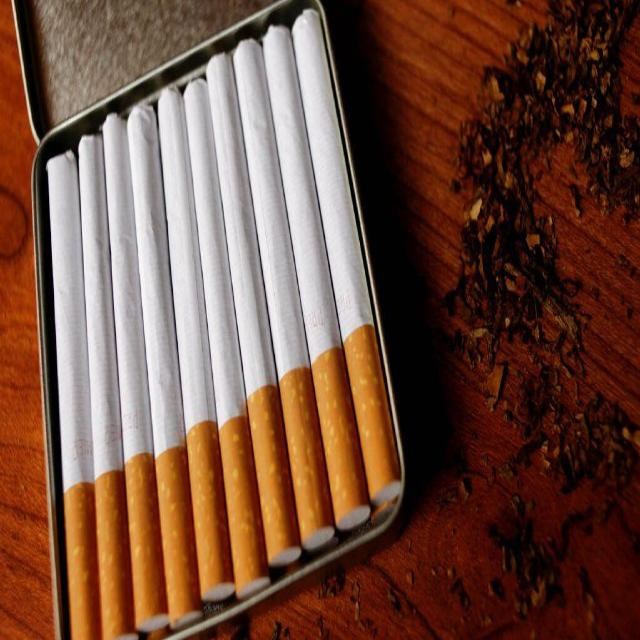cigarette: (292, 9, 401, 510), (263, 29, 370, 532), (233, 39, 335, 552), (206, 53, 302, 572), (185, 80, 269, 599), (158, 91, 235, 601), (128, 107, 203, 630), (102, 114, 169, 632), (80, 134, 137, 639), (47, 153, 103, 639)
